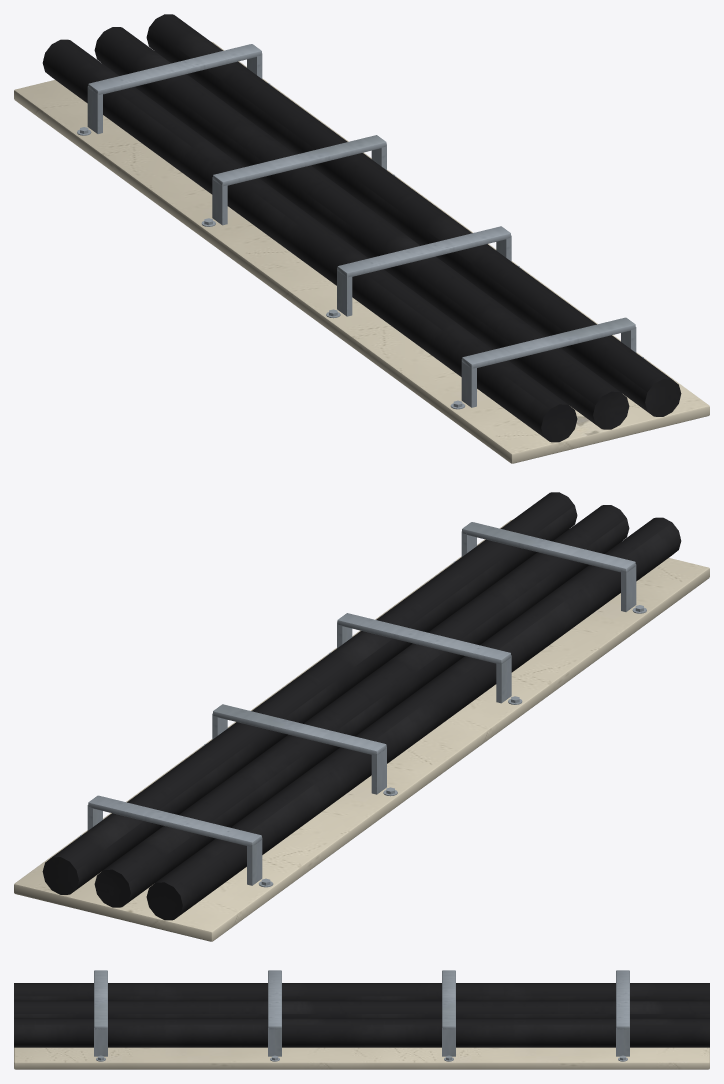
File: wires_long.glb
The picture shows the model from 3 angles, top to bottom: view 1: azimuth 30°, elevation 25°; view 2: azimuth 150°, elevation 25°; view 3: azimuth 270°, elevation 25°; orthographic projection. The views are drawn at different scales.
Visible parts, largest first — view 1: Body.001; view 2: Body.001; view 3: Body.001.
Boxes of the visible parts, x1=… form: Body.001: x1=14, y1=14, x2=709, y2=463; Body.001: x1=14, y1=492, x2=709, y2=941; Body.001: x1=14, y1=970, x2=709, y2=1069.
Size of the model in its own units: 0.23 by 0.06 by 0.997.
Materials: 3 (3 with a texture image).
